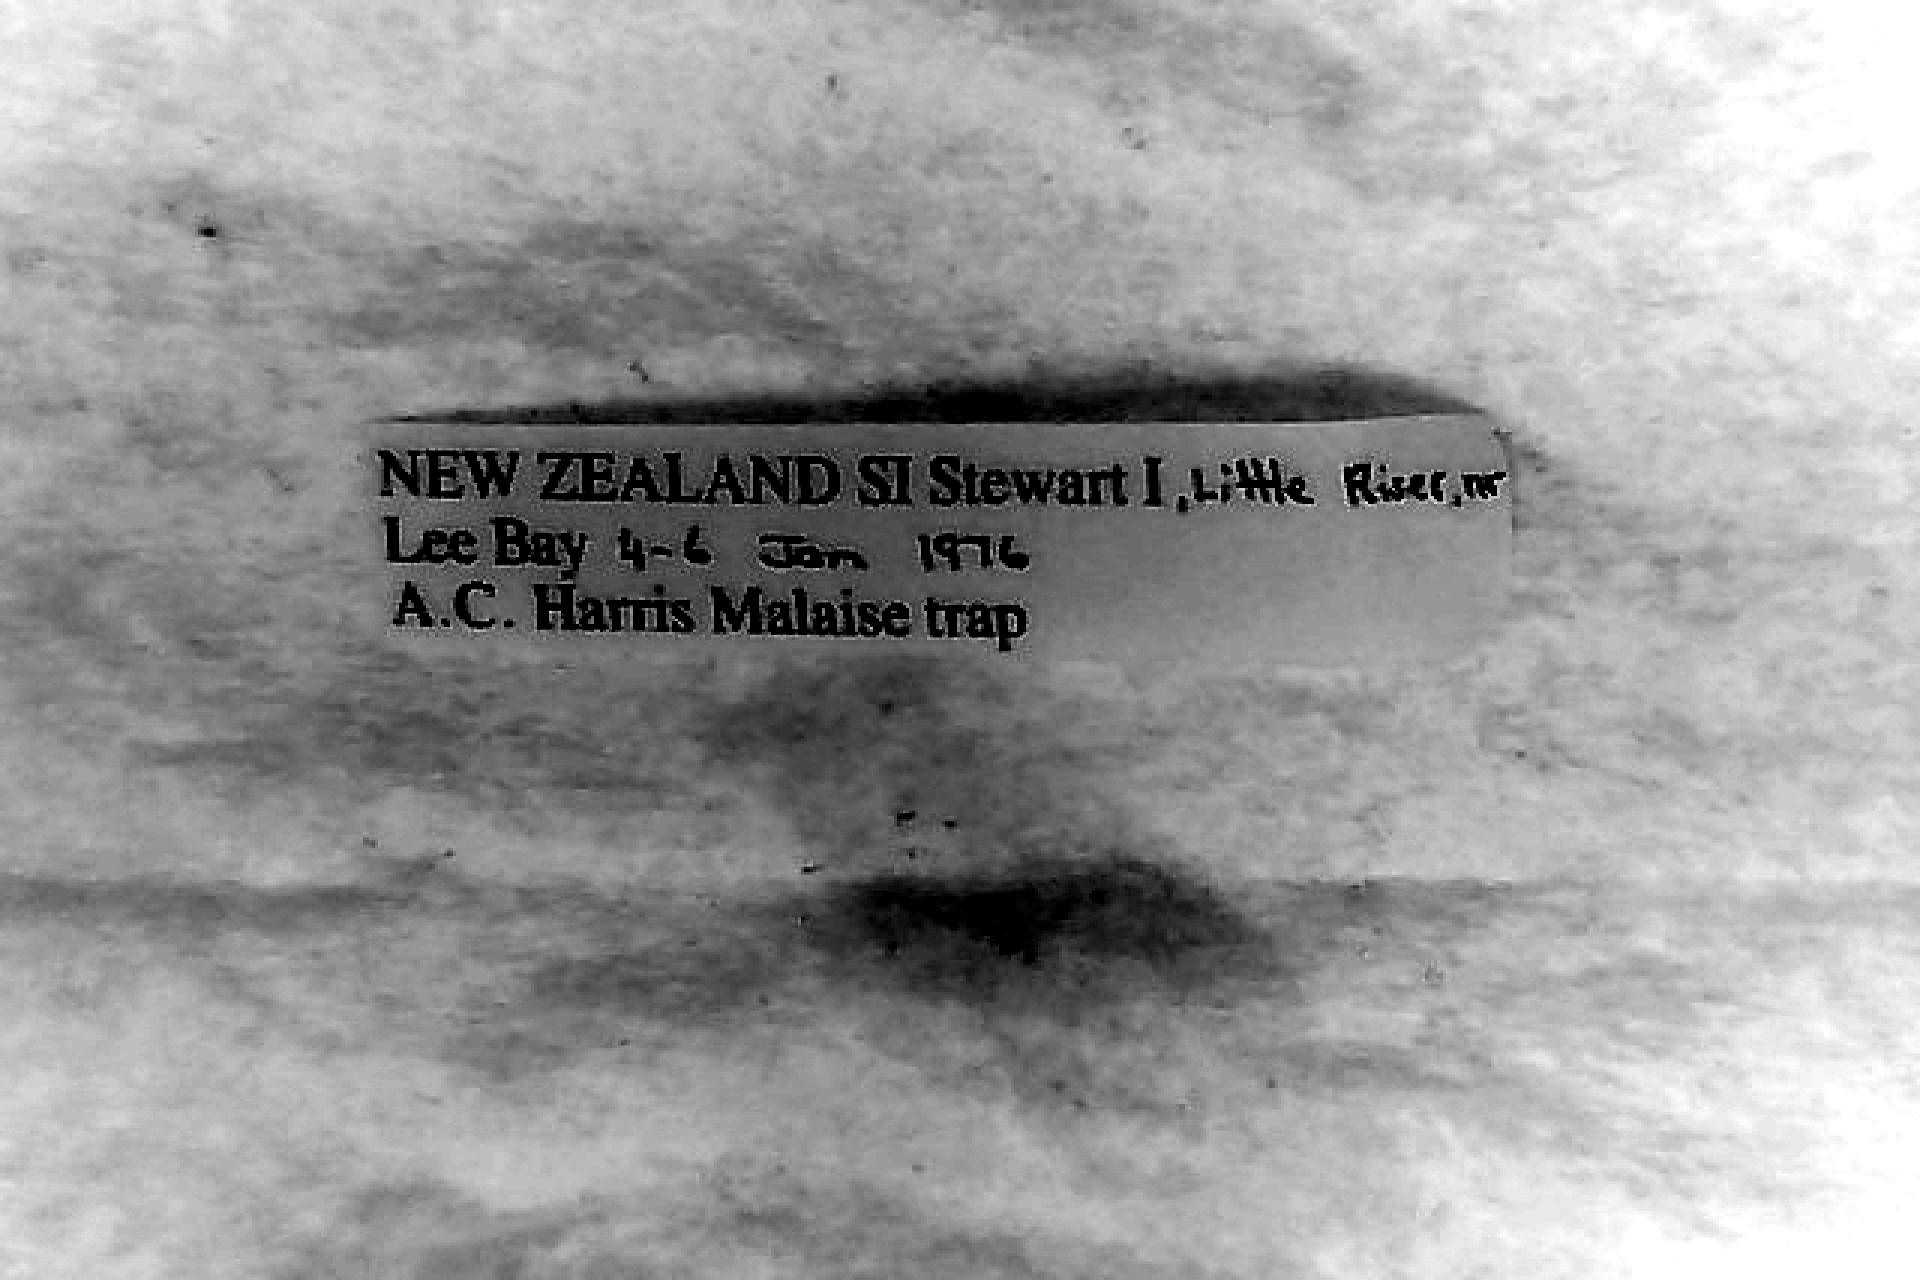mixed_label: (374, 413, 1507, 654)
